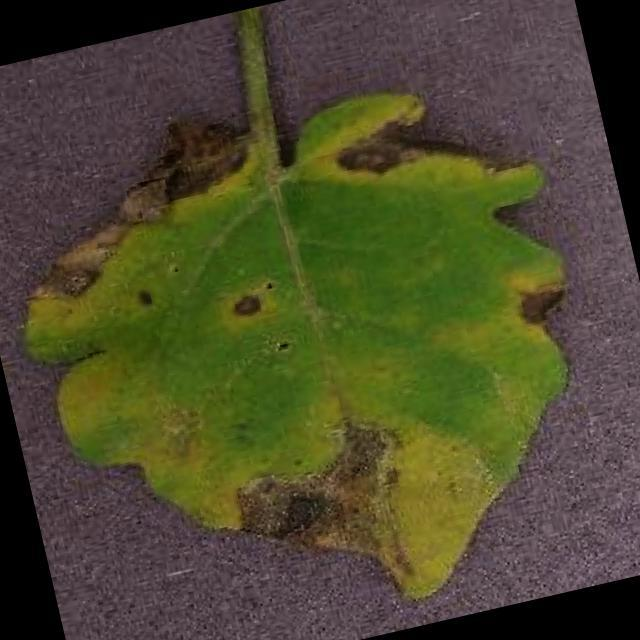Tomato Septoria spot leaf: (0, 48, 630, 640)
